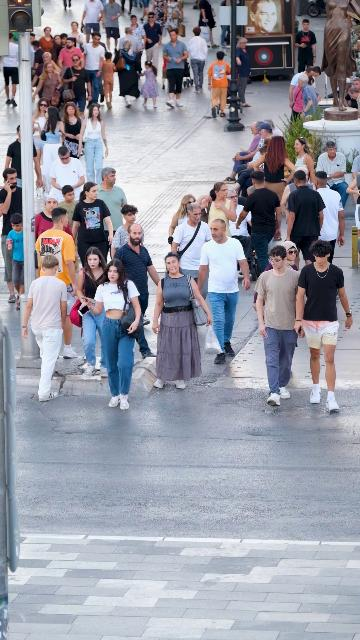person: (294, 239, 354, 414), (79, 258, 144, 411), (151, 251, 214, 391), (198, 217, 251, 365), (254, 244, 301, 407), (20, 250, 69, 402), (34, 206, 78, 360), (113, 223, 161, 364), (236, 169, 283, 280), (77, 246, 114, 380), (284, 169, 326, 268), (171, 203, 213, 299), (71, 180, 114, 266), (0, 168, 23, 302), (315, 169, 346, 265), (225, 123, 273, 184), (78, 103, 109, 187), (315, 140, 350, 210), (39, 106, 66, 195), (259, 135, 297, 198), (196, 180, 238, 236), (227, 189, 256, 270), (49, 145, 86, 203), (96, 166, 128, 232), (59, 54, 93, 116), (228, 143, 267, 197), (112, 38, 142, 108), (163, 28, 189, 108), (34, 194, 75, 243), (5, 212, 25, 311), (110, 203, 145, 258), (168, 194, 201, 249), (82, 32, 106, 107), (207, 51, 232, 118), (186, 26, 209, 94), (0, 32, 20, 107), (142, 12, 163, 79), (231, 122, 264, 163), (293, 74, 321, 122), (61, 101, 84, 159), (31, 51, 61, 94), (289, 66, 313, 119), (32, 62, 62, 104), (294, 19, 317, 72), (235, 36, 252, 107), (290, 137, 315, 185), (57, 184, 79, 238), (32, 97, 50, 162), (102, 0, 123, 55), (4, 125, 22, 188), (197, 0, 220, 49), (80, 0, 105, 44), (139, 60, 159, 110), (99, 52, 116, 110), (162, 0, 183, 41), (120, 27, 139, 72), (58, 37, 83, 69), (129, 15, 145, 63), (220, 0, 235, 47), (278, 239, 300, 271), (346, 155, 360, 204), (280, 177, 298, 215), (149, 0, 168, 30), (69, 21, 86, 54), (32, 138, 43, 188), (345, 77, 360, 112), (49, 34, 64, 67), (38, 26, 54, 56), (28, 33, 41, 69), (32, 41, 45, 76), (263, 118, 283, 137), (137, 0, 149, 21), (121, 0, 133, 15), (310, 66, 320, 76), (59, 33, 68, 44), (63, 0, 71, 10)
